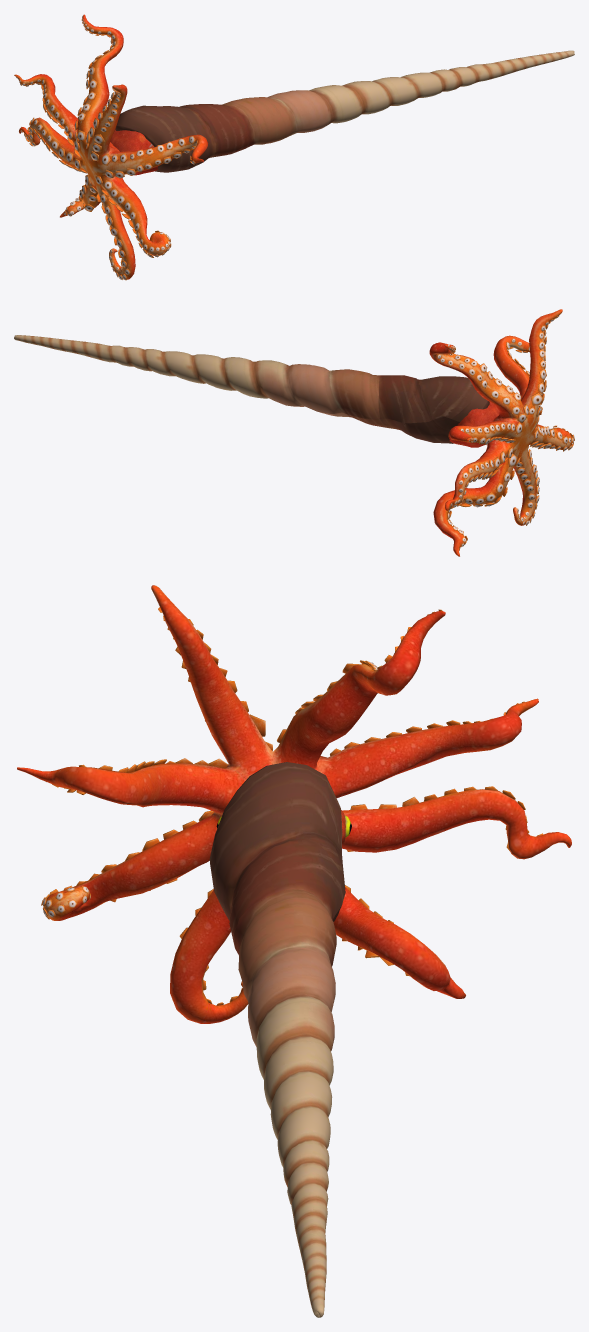
The model's file is orthocone.glb.
The picture shows the model from 3 angles, top to bottom: view 1: azimuth 30°, elevation 25°; view 2: azimuth 150°, elevation 25°; view 3: azimuth 270°, elevation 25°; orthographic projection. The views are drawn at different scales.
Parts seen in each view (by area): view 1: node_id30_Material_51_0; view 2: node_id30_Material_51_0; view 3: node_id30_Material_51_0.
Part boxes in pixels (x1,y1,x2,y2): node_id30_Material_51_0: (14,14,574,280); node_id30_Material_51_0: (14,309,574,556); node_id30_Material_51_0: (17,585,571,1317).
Size of the model in its own units: 2.94 by 1.2 by 1.4.
3 materials, 3 textured.
